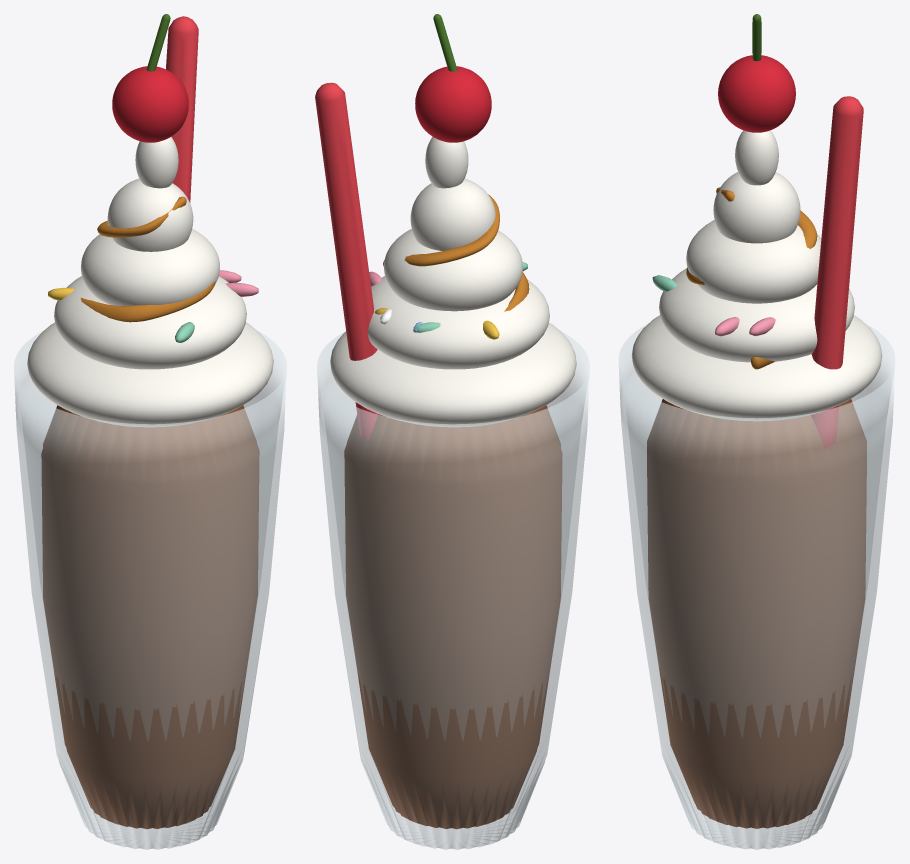
File: comida_frape_chef.glb
3 views of the same model, side by side, from view 1: azimuth 30°, elevation 25°; view 2: azimuth 150°, elevation 25°; view 3: azimuth 270°, elevation 25° (orthographic).
Parts seen in each view (by area): view 1: vaso frappé.001, frappé.001, crema frappé 0.001, crema frappé 1.001, crema frappé 2.001, cereza frappé.001, crema frappé 3.001, pitillo.001, caramelo.001, crema frappé punta.001, palito cereza.001; view 2: vaso frappé.001, frappé.001, crema frappé 0.001, crema frappé 1.001, pitillo.001, crema frappé 2.001, cereza frappé.001, crema frappé 3.001, crema frappé punta.001, caramelo.001, palito cereza.001; view 3: vaso frappé.001, frappé.001, crema frappé 0.001, pitillo.001, crema frappé 1.001, crema frappé 2.001, crema frappé 3.001, cereza frappé.001, crema frappé punta.001, caramelo.001.
Boxes of the visible parts, x1,y1,x2,y2 form: vaso frappé.001: (14, 331, 286, 849); frappé.001: (41, 405, 259, 829); crema frappé 0.001: (27, 322, 273, 427); crema frappé 1.001: (54, 276, 246, 369); crema frappé 2.001: (81, 229, 219, 305); cereza frappé.001: (112, 66, 188, 142); crema frappé 3.001: (107, 178, 193, 251); pitillo.001: (166, 16, 198, 202); caramelo.001: (80, 196, 215, 322); crema frappé punta.001: (135, 137, 178, 188); palito cereza.001: (146, 14, 170, 71); vaso frappé.001: (317, 331, 589, 849); frappé.001: (344, 405, 562, 829); crema frappé 0.001: (330, 322, 576, 427); crema frappé 1.001: (367, 276, 549, 369); pitillo.001: (315, 82, 378, 439); crema frappé 2.001: (383, 229, 522, 311); cereza frappé.001: (415, 66, 491, 142); crema frappé 3.001: (410, 178, 495, 250); crema frappé punta.001: (425, 137, 468, 188); caramelo.001: (404, 194, 529, 311); palito cereza.001: (433, 14, 457, 71); vaso frappé.001: (618, 323, 895, 849); frappé.001: (647, 399, 866, 828); crema frappé 0.001: (631, 315, 882, 421); pitillo.001: (811, 96, 863, 449); crema frappé 1.001: (659, 268, 854, 362); crema frappé 2.001: (686, 220, 821, 303); crema frappé 3.001: (713, 172, 800, 243); cereza frappé.001: (718, 55, 795, 132); crema frappé punta.001: (735, 130, 778, 185); caramelo.001: (686, 187, 817, 369).
Bounding box in the file's own units: 0.1519 × 0.5015 × 0.1519.
